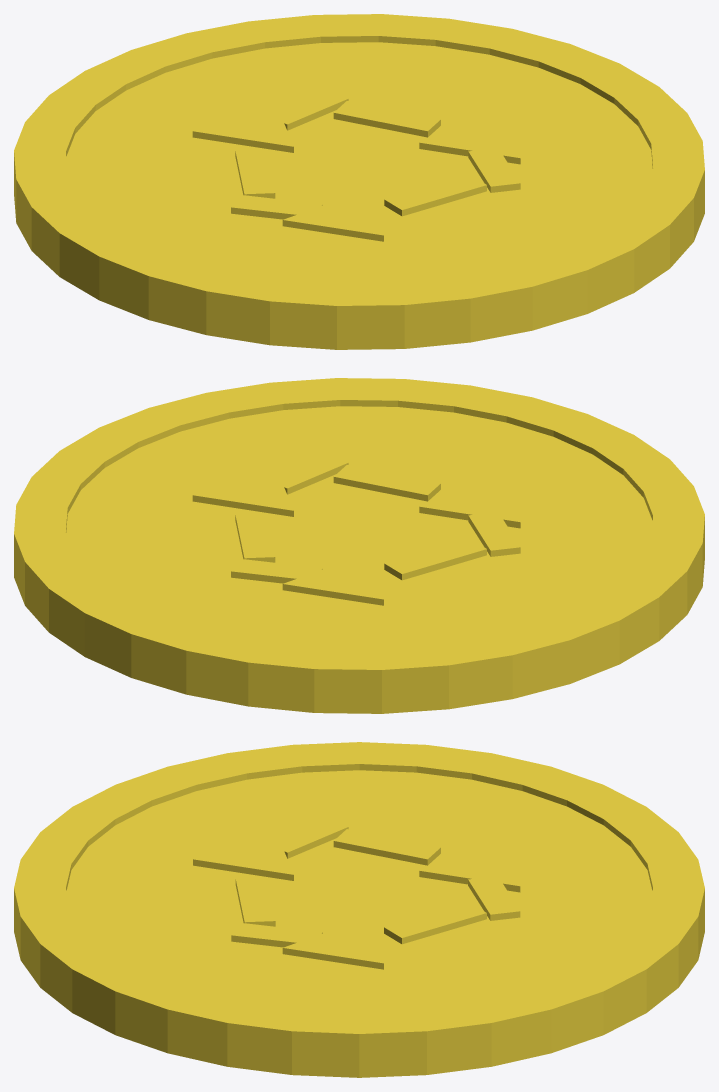
The model's file is Recycle_Coin.fbx.
3 renders of one model, top to bottom at view 1: azimuth 30°, elevation 25°; view 2: azimuth 150°, elevation 25°; view 3: azimuth 270°, elevation 25°, orthographic.
Parts seen in each view (by area): view 1: Recycle_Coin_Gold; view 2: Recycle_Coin_Gold; view 3: Recycle_Coin_Gold.
Part boxes in pixels (left/top/right/bottom): Recycle_Coin_Gold: left=14, top=14, right=704, bottom=349; Recycle_Coin_Gold: left=14, top=378, right=704, bottom=713; Recycle_Coin_Gold: left=14, top=742, right=704, bottom=1077.
Bounding box in the file's own units: 200 × 14 × 200.
